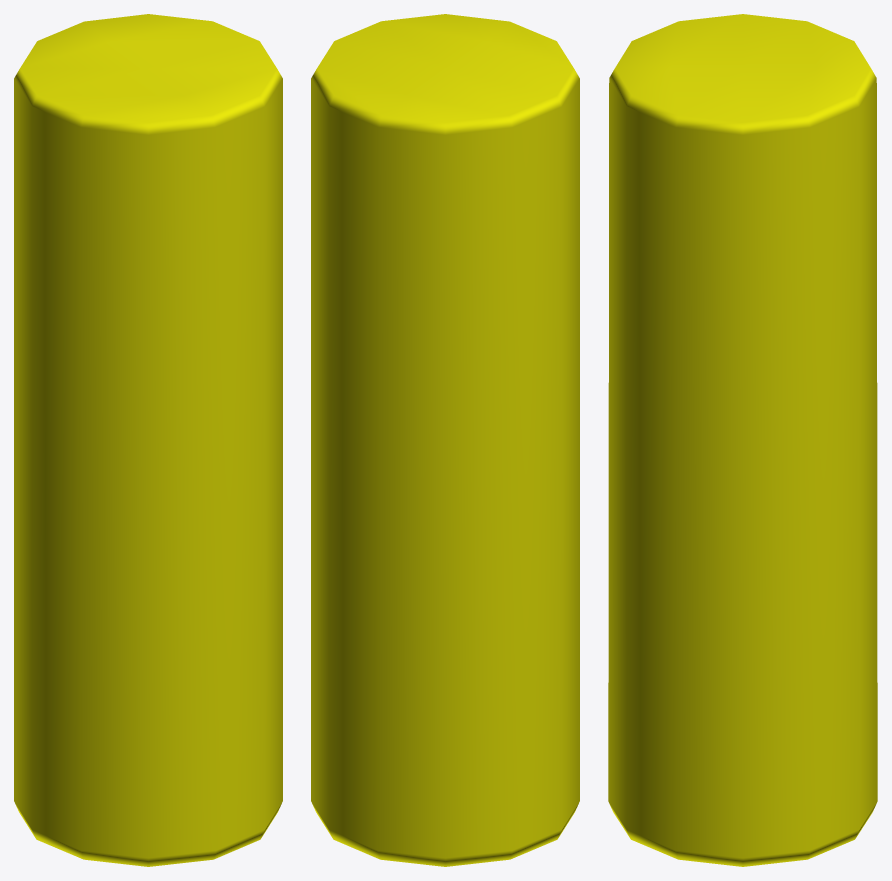
The model's file is S_Pillar_01_B.fbx.
The picture shows the model from 3 angles, left to right: view 1: azimuth 30°, elevation 25°; view 2: azimuth 150°, elevation 25°; view 3: azimuth 270°, elevation 25°; orthographic projection.
Visible parts, largest first — view 1: S_Pillar_01_B; view 2: S_Pillar_01_B; view 3: S_Pillar_01_B.
Boxes of the visible parts, x1=… form: S_Pillar_01_B: x1=14, y1=14, x2=282, y2=866; S_Pillar_01_B: x1=311, y1=14, x2=579, y2=866; S_Pillar_01_B: x1=608, y1=14, x2=877, y2=866.
Size of the model in its own units: 26.49 by 80.92 by 26.54.
